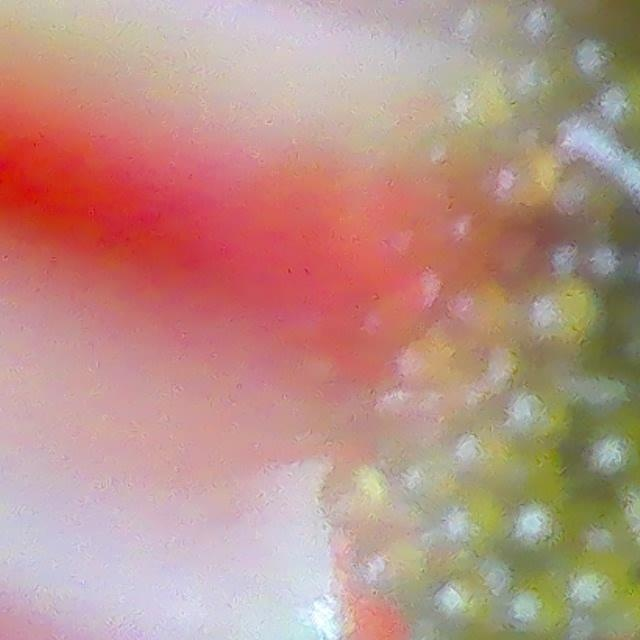SeaGrape: (557, 547, 639, 629), (423, 575, 498, 640), (508, 585, 569, 640), (511, 505, 560, 555)
